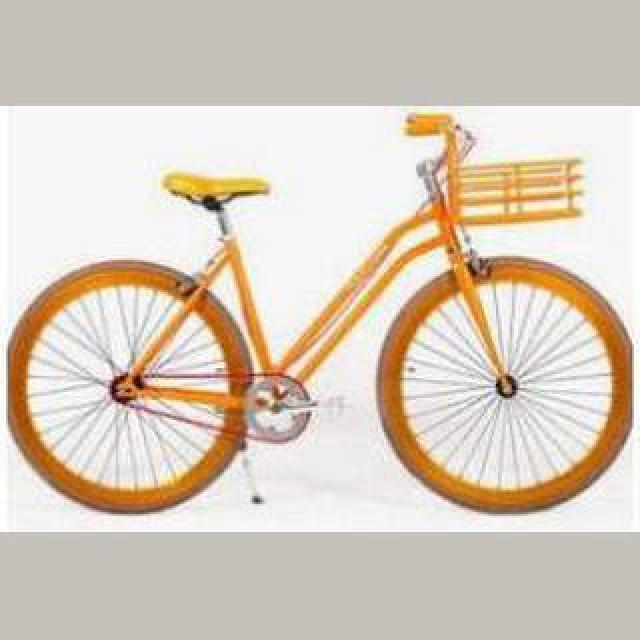Person: (0, 115, 632, 511)
